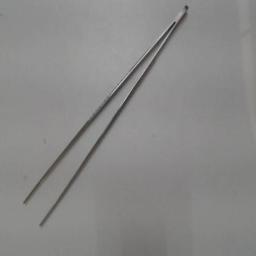DeBakey Dissector: (20, 3, 206, 233)
